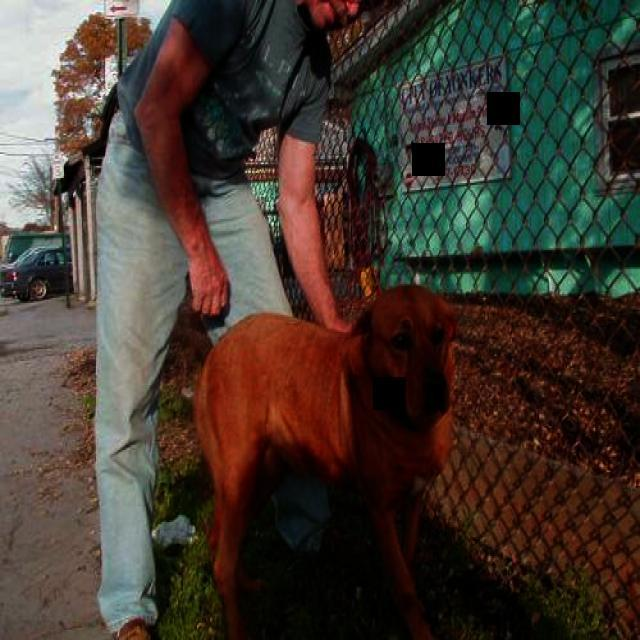adult_dog: (193, 280, 464, 640)
non-dog: (94, 1, 371, 640)
